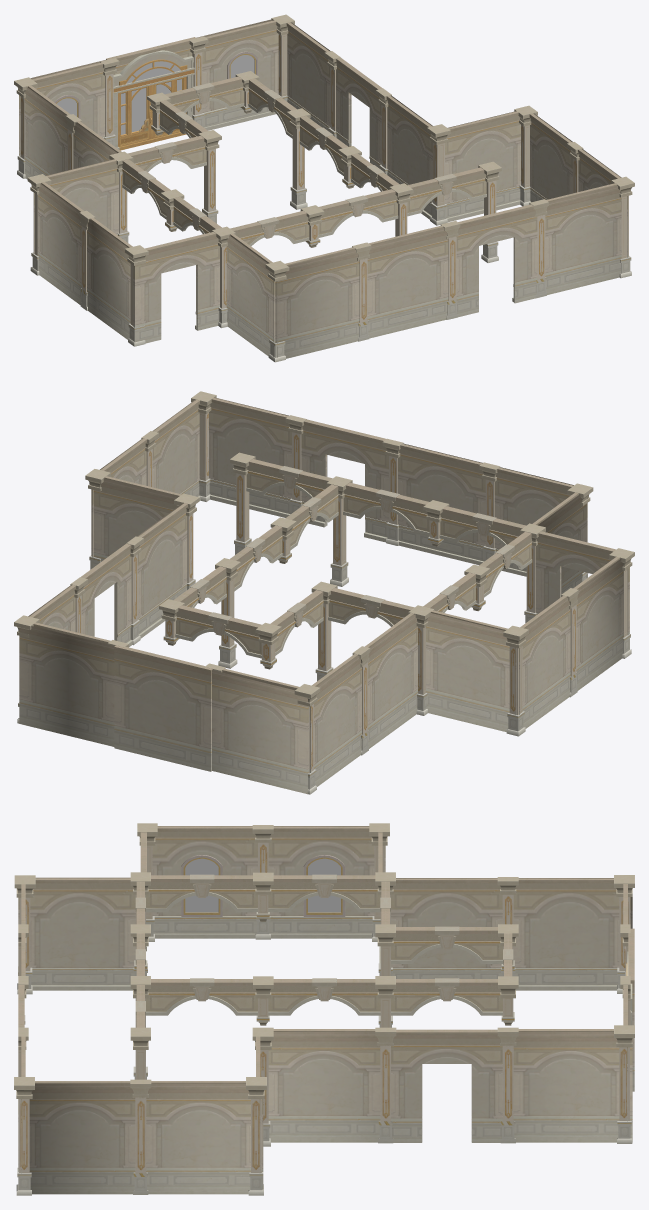
Rendered from Homeworld_Interior_Fd_Room_E_Wall_01_Vo.fbx.
3 views of the same model, one above another, from view 1: azimuth 30°, elevation 25°; view 2: azimuth 150°, elevation 25°; view 3: azimuth 270°, elevation 25° (orthographic). The views are drawn at different scales.
Visible parts, largest first — view 1: Homeworld_Interior_Fd_Room_E_Filling_01_Vo, Homeworld_Interior_Fd_Room_Wall_01_Vo (×6), Homeworld_Interior_Fd_Room_Wall_04_Vo (×11), Homeworld_Interior_Fd_Room_Wall_06_Vo (×3), Homeworld_Interior_Fd_Room_Pillar_01_Vo (×14), Homeworld_Interior_Fd_Room_Wall_02_Vo (×2), Homeworld_Interior_Fd_Room_Pillar_02_Vo (×8), Homeworld_Interior_Fd_Room_Wall_07_Vo, Homeworld_Interior_Fd_Room_Pillar_03_Vo; view 2: Homeworld_Interior_Fd_Room_E_Filling_01_Vo, Homeworld_Interior_Fd_Room_Wall_01_Vo (×7), Homeworld_Interior_Fd_Room_Wall_04_Vo (×11), Homeworld_Interior_Fd_Room_Pillar_01_Vo (×11), Homeworld_Interior_Fd_Room_Wall_06_Vo (×3), Homeworld_Interior_Fd_Room_Wall_07_Vo, Homeworld_Interior_Fd_Room_Pillar_02_Vo (×6), Homeworld_Interior_Fd_Room_Pillar_03_Vo (×3); view 3: Homeworld_Interior_Fd_Room_E_Filling_01_Vo, Homeworld_Interior_Fd_Room_Wall_01_Vo (×3), Homeworld_Interior_Fd_Room_Wall_04_Vo (×6), Homeworld_Interior_Fd_Room_Wall_02_Vo (×2), Homeworld_Interior_Fd_Room_Pillar_01_Vo (×11), Homeworld_Interior_Fd_Room_Wall_06_Vo, Homeworld_Interior_Fd_Room_Pillar_02_Vo (×5), Homeworld_Interior_Fd_Room_Pillar_03_Vo (×3), Homeworld_Interior_Fd_Room_Wall_07_Vo.
Boxes of the visible parts, x1,y1,x2,y2 form: Homeworld_Interior_Fd_Room_E_Filling_01_Vo: [19, 19, 621, 358]; Homeworld_Interior_Fd_Room_Wall_01_Vo (×6): [33, 22, 627, 257]; Homeworld_Interior_Fd_Room_Wall_04_Vo (×11): [122, 76, 486, 246]; Homeworld_Interior_Fd_Room_Wall_06_Vo (×3): [133, 57, 537, 343]; Homeworld_Interior_Fd_Room_Pillar_01_Vo (×14): [14, 14, 634, 362]; Homeworld_Interior_Fd_Room_Wall_02_Vo (×2): [20, 20, 278, 157]; Homeworld_Interior_Fd_Room_Pillar_02_Vo (×8): [79, 36, 548, 341]; Homeworld_Interior_Fd_Room_Wall_07_Vo: [106, 37, 195, 150]; Homeworld_Interior_Fd_Room_Pillar_03_Vo: [300, 205, 324, 247]; Homeworld_Interior_Fd_Room_E_Filling_01_Vo: [19, 397, 623, 793]; Homeworld_Interior_Fd_Room_Wall_01_Vo (×7): [29, 397, 587, 638]; Homeworld_Interior_Fd_Room_Wall_04_Vo (×11): [174, 459, 532, 658]; Homeworld_Interior_Fd_Room_Pillar_01_Vo (×11): [174, 391, 634, 794]; Homeworld_Interior_Fd_Room_Wall_06_Vo (×3): [80, 419, 629, 649]; Homeworld_Interior_Fd_Room_Wall_07_Vo: [114, 645, 212, 771]; Homeworld_Interior_Fd_Room_Pillar_02_Vo (×6): [126, 415, 578, 755]; Homeworld_Interior_Fd_Room_Pillar_03_Vo (×3): [159, 500, 449, 669]; Homeworld_Interior_Fd_Room_E_Filling_01_Vo: [29, 826, 632, 1194]; Homeworld_Interior_Fd_Room_Wall_01_Vo (×3): [18, 878, 630, 990]; Homeworld_Interior_Fd_Room_Wall_04_Vo (×6): [146, 874, 502, 1015]; Homeworld_Interior_Fd_Room_Wall_02_Vo (×2): [152, 826, 385, 938]; Homeworld_Interior_Fd_Room_Pillar_01_Vo (×11): [14, 823, 634, 1195]; Homeworld_Interior_Fd_Room_Wall_06_Vo: [391, 1029, 502, 1142]; Homeworld_Interior_Fd_Room_Pillar_02_Vo (×5): [130, 825, 518, 1194]; Homeworld_Interior_Fd_Room_Pillar_03_Vo (×3): [253, 872, 518, 1025]; Homeworld_Interior_Fd_Room_Wall_07_Vo: [626, 928, 634, 1091].
Size of what is drawn, in the model's own units: 25.35 by 5.02 by 25.35.
